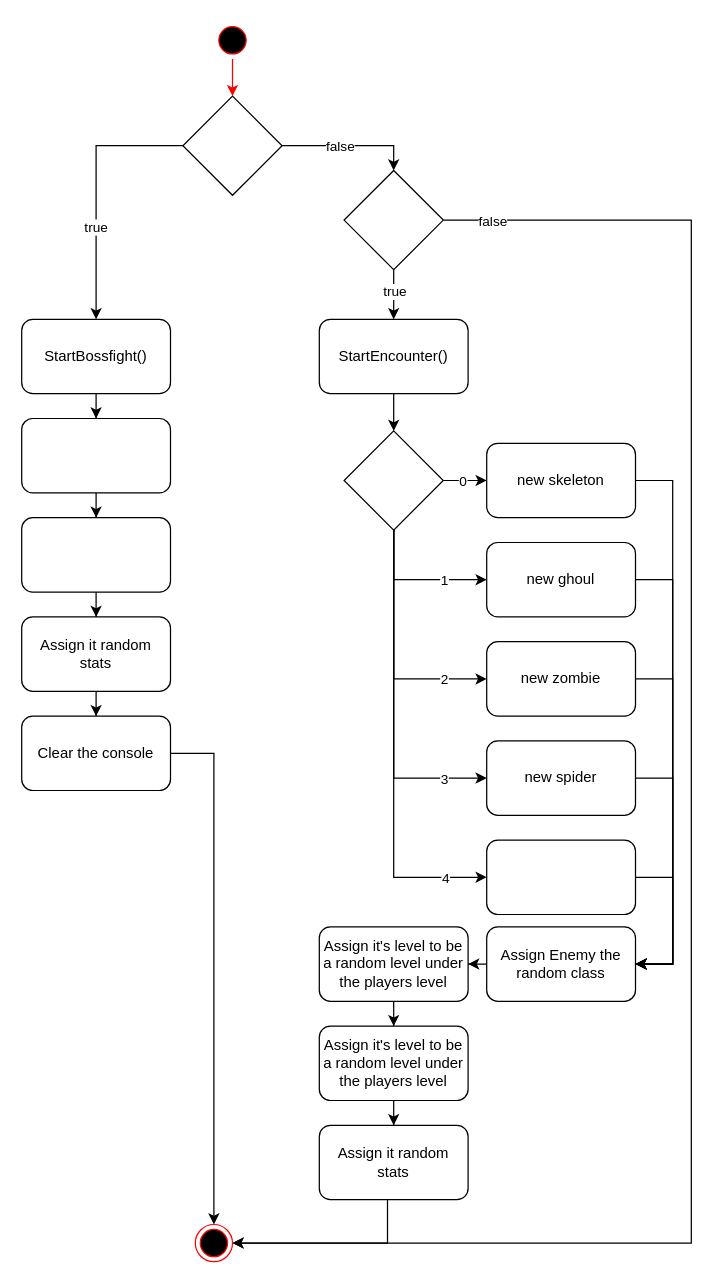
Some shapes in this 723 by 1283 pixel diagram are drawn without their labels. Each missing label, with the centre of its shape:
"Assign Enemy the value of new boss" belongs at point (95, 455).
"Assign it's level to be the dungeon level" belongs at point (95, 554).
"has encounter" belongs at point (393, 219).
"is in boss room" belongs at point (232, 145).
"new wraith" belongs at point (560, 876).
"randomNumber between 0 and 5" belongs at point (393, 480).
